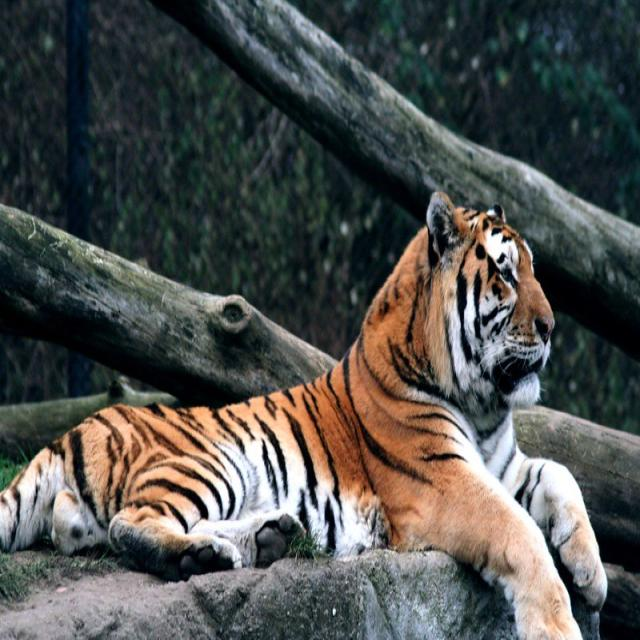Tiger: (9, 191, 608, 639)
